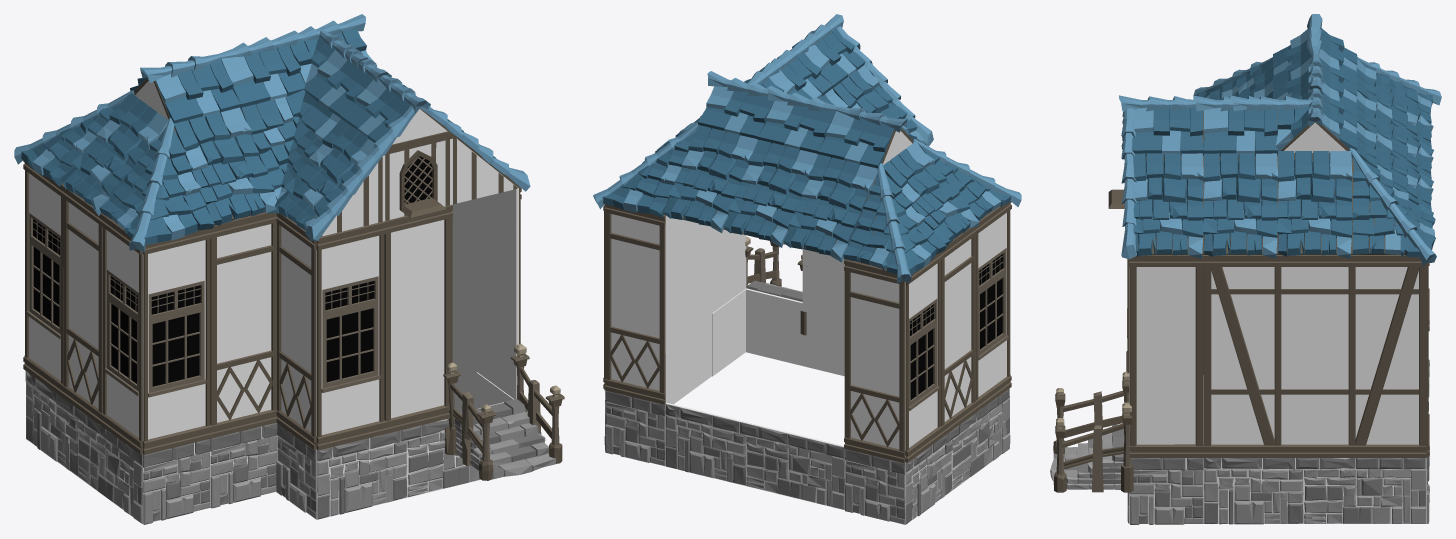
The model's file is house_06_parts.fbx.
3 views of the same model, side by side, from view 1: azimuth 30°, elevation 25°; view 2: azimuth 150°, elevation 25°; view 3: azimuth 270°, elevation 25° (orthographic). The views are drawn at different scales.
Parts seen in each view (by area): view 1: WINDOW_04_3, WALL_03_3, WINDOW_04_4, WALL_01_3, FOUNDATION_02_10, STAIRS_06_3, WALL_01_4, WALL_01_2, WINDOW_04_5, WALL_03_4, WINDOW_04_6, FOUNDATION_02_11 (+27 smaller); view 2: WALL_01_6, FOUNDATION_02_12, WALL_01_5, WINDOW_04_6, WINDOW_04_5, WALL_01_4, FOUNDATION_02_11, FOUNDATION_02_10, ROOF_corner_out_3, ROOF_base_8, ROOF_base_6, ROOF_base_7 (+22 smaller); view 3: WALL_02_2, WALL_03_4, FOUNDATION_02_13, ROOF_base_5, ROOF_base_4, ROOF_base_3, STAIRS_06_3, ROOF_corner_out_2, FOUNDATION_03_11, ROOF_base_small_5, ROOF_base_small_4, ROOF_base_6 (+20 smaller).
Boxes of the visible parts, x1,y1,x2,y2 form: WINDOW_04_3: (316,221,385,450); WALL_03_3: (384,205,452,433); WINDOW_04_4: (143,229,211,454); WALL_01_3: (210,212,277,438); FOUNDATION_02_10: (316,402,503,519); STAIRS_06_3: (443,344,564,480); WALL_01_4: (62,185,102,425); WALL_01_2: (276,212,316,449); WINDOW_04_5: (101,214,142,454); WALL_03_4: (477,187,521,398); WINDOW_04_6: (23,161,63,396); FOUNDATION_02_11: (26,371,143,523); WALL_01_6: (604,204,666,404); FOUNDATION_02_12: (665,403,845,509); WALL_01_5: (844,259,905,462); WINDOW_04_6: (905,251,942,462); WINDOW_04_5: (975,201,1011,411); WALL_01_4: (941,227,976,436); FOUNDATION_02_11: (903,389,1010,524); FOUNDATION_02_10: (745,288,844,376); ROOF_corner_out_3: (843,163,946,283); ROOF_base_8: (783,154,877,262); ROOF_base_6: (663,125,757,232); ROOF_base_7: (723,139,817,247); WALL_02_2: (1203,255,1426,457); WALL_03_4: (1129,255,1203,457); FOUNDATION_02_13: (1203,458,1426,524); ROOF_base_5: (1277,151,1352,258); ROOF_base_4: (1203,153,1278,258); ROOF_base_3: (1129,153,1203,258); STAIRS_06_3: (1050,371,1133,492); ROOF_corner_out_2: (1348,148,1436,266); FOUNDATION_03_11: (1129,458,1203,524); ROOF_base_small_5: (1203,107,1277,156); ROOF_base_small_4: (1132,106,1203,156); ROOF_base_6: (1356,122,1433,215).
Size of the model in its own units: 541 by 565 by 527.
